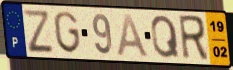9: (91, 12, 113, 56)
A: (116, 12, 152, 59)
G: (52, 10, 83, 55)
Q: (149, 14, 181, 60)
R: (177, 14, 211, 63)
Z: (21, 7, 55, 54)
